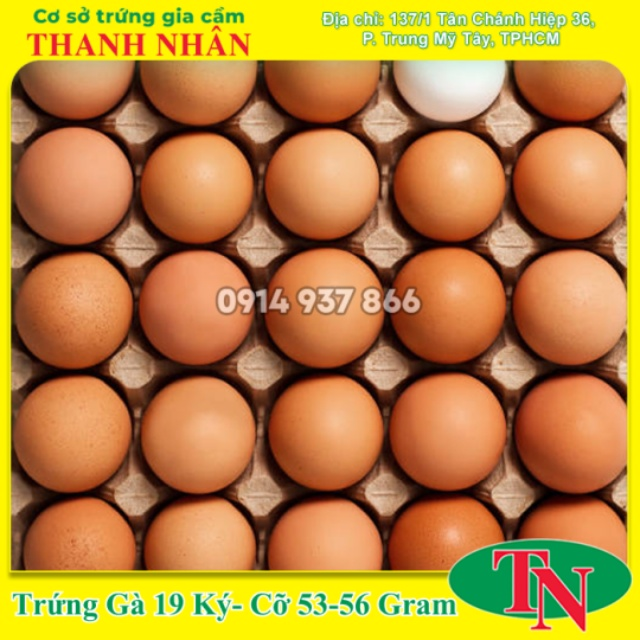trung_ga: (261, 247, 386, 372), (383, 369, 506, 495), (135, 245, 261, 367), (137, 373, 259, 496), (13, 126, 134, 250), (512, 373, 633, 497), (12, 376, 133, 498), (12, 252, 132, 373), (389, 247, 509, 365), (264, 373, 382, 493), (514, 246, 630, 366), (138, 130, 255, 246), (391, 130, 508, 245), (264, 126, 381, 240), (514, 126, 627, 242), (140, 493, 261, 569), (266, 497, 385, 570), (19, 497, 137, 568)
